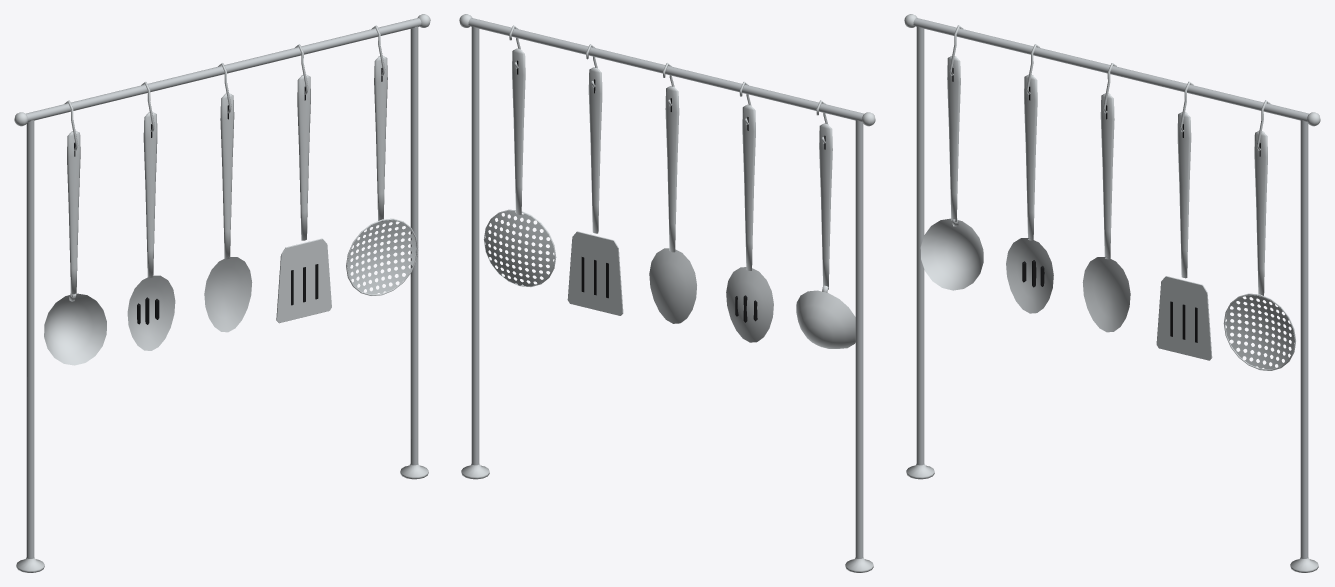
The model's file is item-43.glb.
3 renders of one model, left to right at view 1: azimuth 30°, elevation 25°; view 2: azimuth 150°, elevation 25°; view 3: azimuth 330°, elevation 25°, orthographic.
Parts seen in each view (by area): view 1: post, rail, post.001, turner, ladle, skimmer, spoon.001, spoon, handle.002, handle.003, handle.004, handle (+1 smaller); view 2: post.001, post, rail, turner, skimmer, spoon.001, ladle, spoon, handle.001, handle.002, handle.003, handle.004 (+1 smaller); view 3: post.001, post, rail, turner, ladle, skimmer, spoon.001, spoon, handle, handle.001, handle.002, handle.004 (+1 smaller).
Part boxes in pixels (left/top/right/bottom): post: left=26, top=120, right=34, bottom=558; rail: left=26, top=18, right=421, bottom=122; post.001: left=410, top=26, right=418, bottom=465; turner: left=276, top=238, right=331, bottom=323; ladle: left=44, top=293, right=106, bottom=365; skimmer: left=347, top=220, right=416, bottom=294; spoon.001: left=204, top=256, right=252, bottom=332; spoon: left=127, top=275, right=175, bottom=350; handle.002: left=220, top=93, right=234, bottom=259; handle.003: left=297, top=74, right=310, bottom=240; handle.004: left=374, top=56, right=387, bottom=221; handle: left=67, top=131, right=80, bottom=296; post.001: left=471, top=26, right=479, bottom=465; post: left=855, top=120, right=863, bottom=558; rail: left=468, top=18, right=863, bottom=122; turner: left=567, top=231, right=623, bottom=315; skimmer: left=484, top=211, right=554, bottom=286; spoon.001: left=649, top=248, right=696, bottom=323; ladle: left=796, top=290, right=855, bottom=348; spoon: left=726, top=267, right=773, bottom=342; handle.001: left=742, top=104, right=755, bottom=270; handle.002: left=665, top=86, right=679, bottom=252; handle.003: left=588, top=67, right=602, bottom=233; handle.004: left=512, top=48, right=525, bottom=214; post.001: left=1300, top=120, right=1308, bottom=558; post: left=916, top=26, right=924, bottom=465; rail: left=913, top=18, right=1308, bottom=122; turner: left=1156, top=276, right=1212, bottom=360; ladle: left=920, top=218, right=983, bottom=290; skimmer: left=1225, top=295, right=1294, bottom=369; spoon.001: left=1082, top=256, right=1130, bottom=332; spoon: left=1006, top=238, right=1053, bottom=313; handle: left=947, top=56, right=960, bottom=221; handle.001: left=1024, top=74, right=1037, bottom=240; handle.002: left=1100, top=93, right=1114, bottom=259; handle.004: left=1254, top=131, right=1267, bottom=296.
Bounding box in the file's own units: 0.5392 × 0.5692 × 0.0411.
4 materials, 1 textured.
